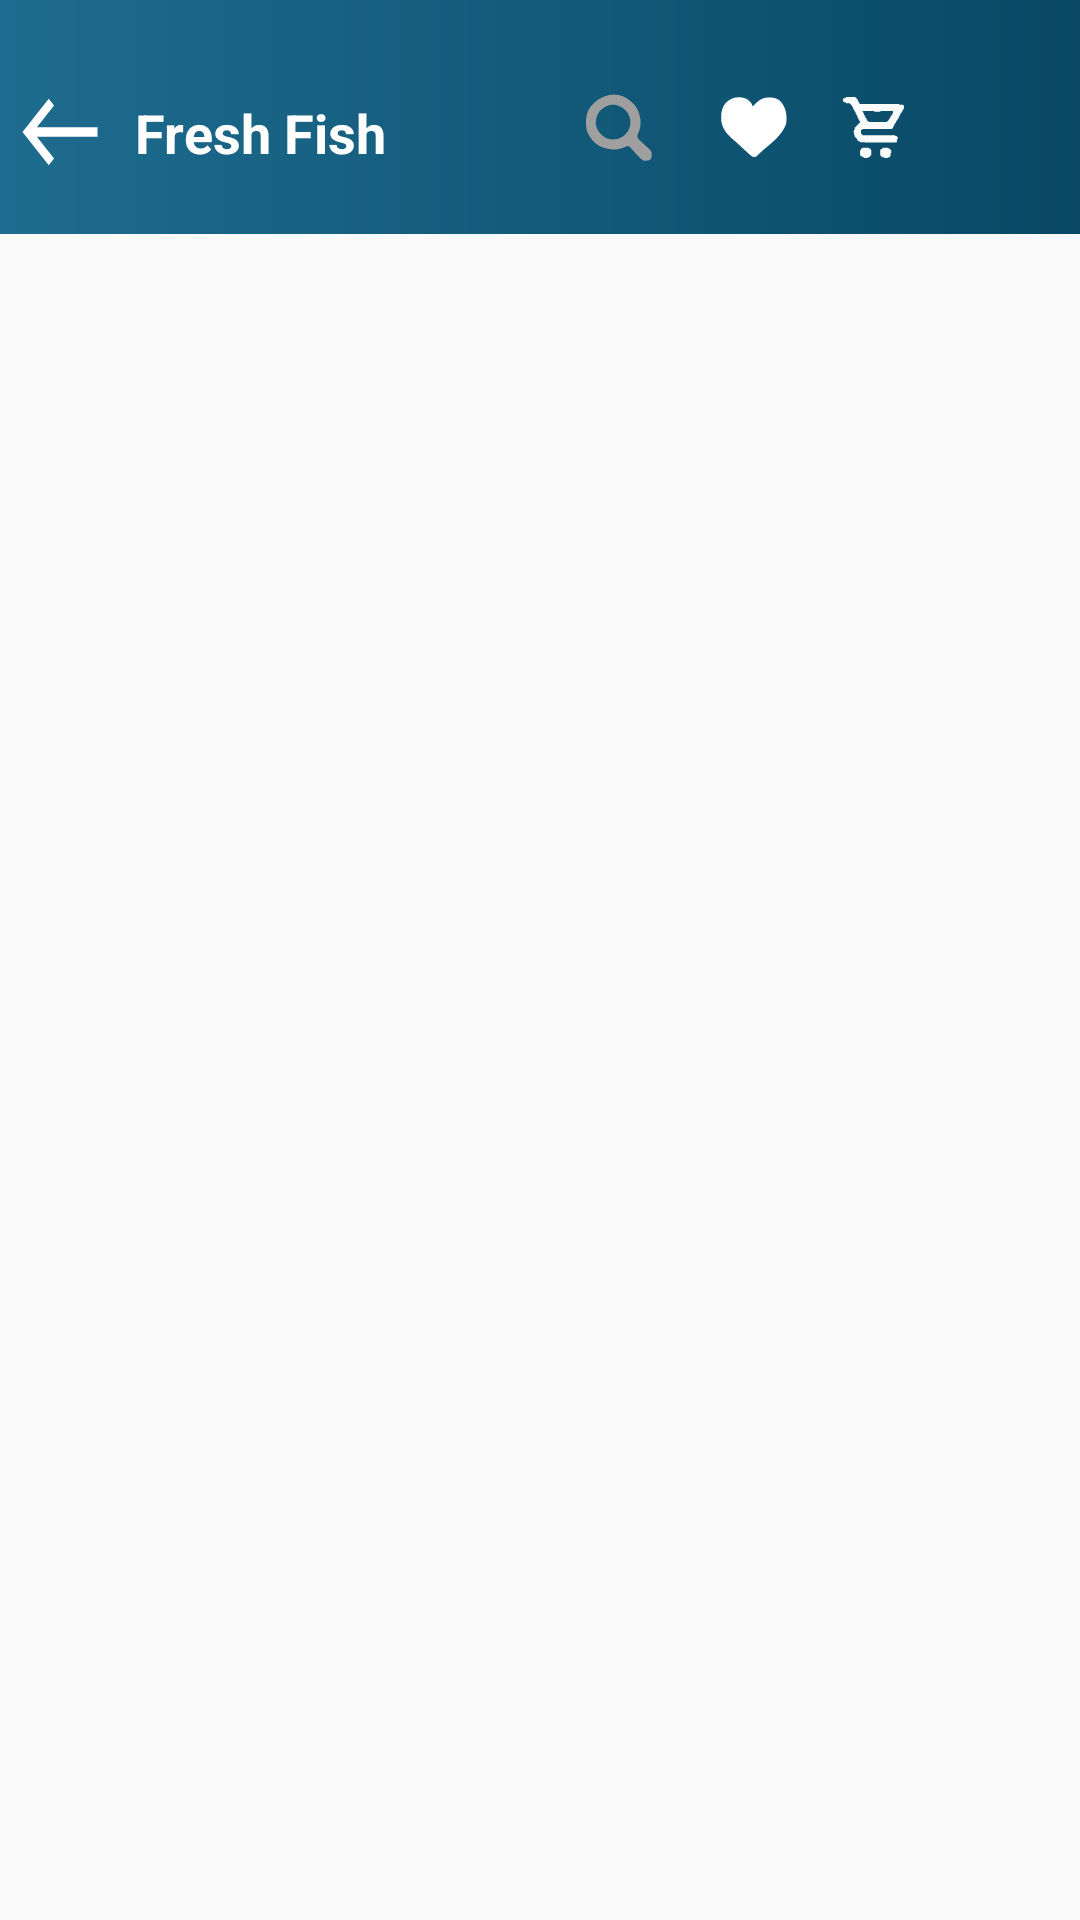

Icons on this 1080w x 1920h Android screen, each with the point to tap as point (x, y):
cart: point (873, 127)
favourite: point (754, 127)
search: point (619, 127)
west: point (60, 132)
